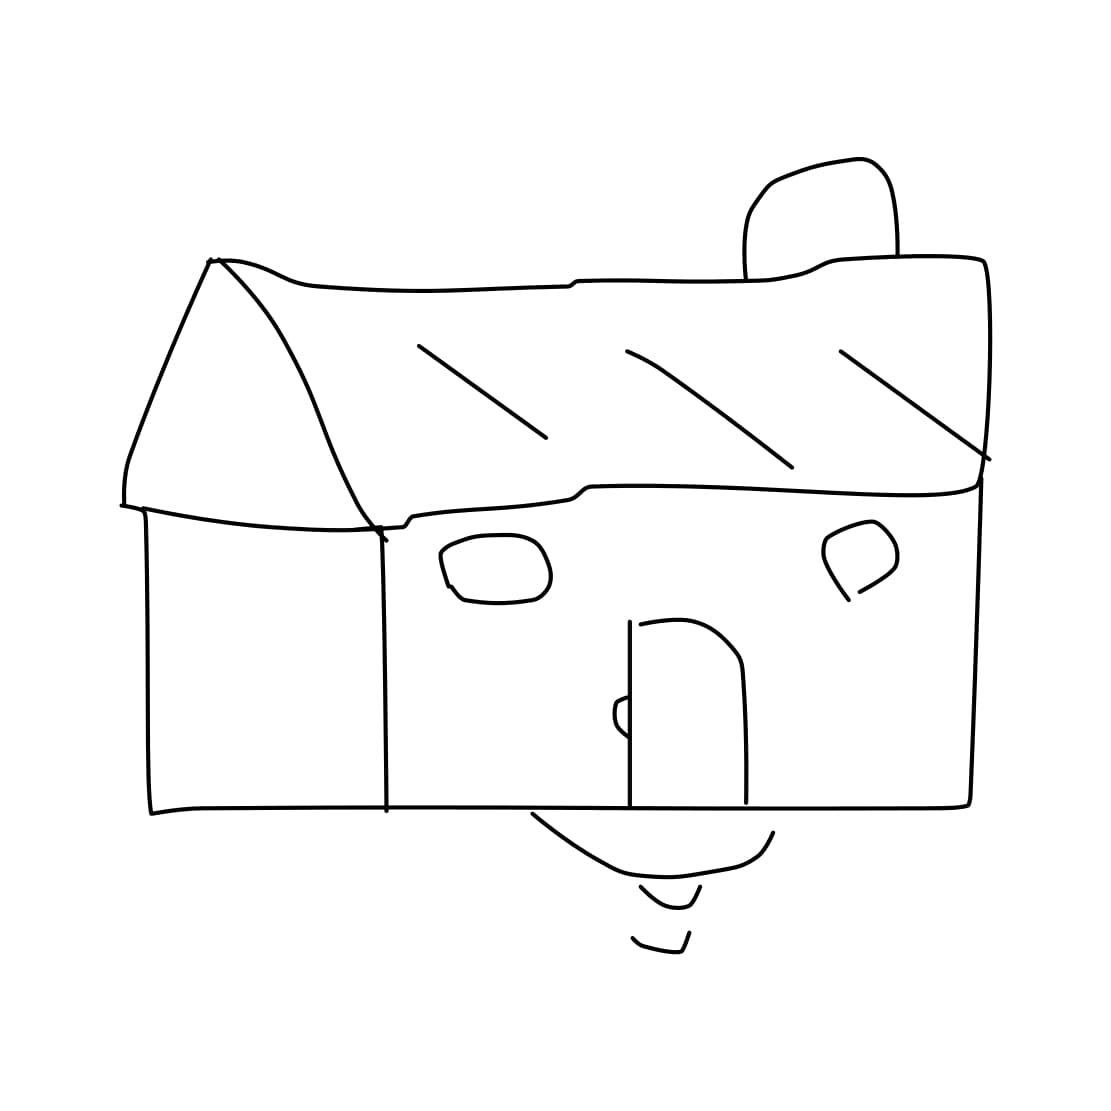House: (81, 124, 1024, 855)
